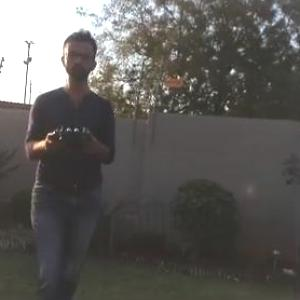follow: (19, 24, 121, 299)
